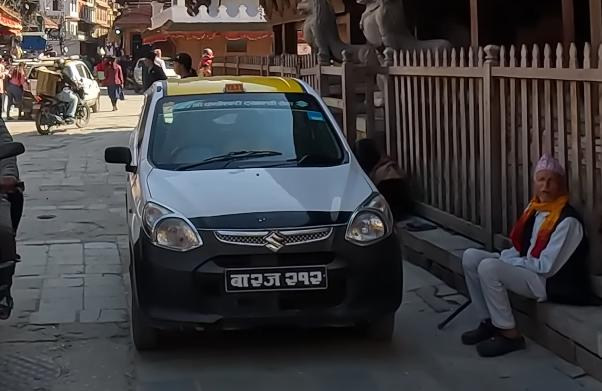taxi: (102, 69, 411, 352)
